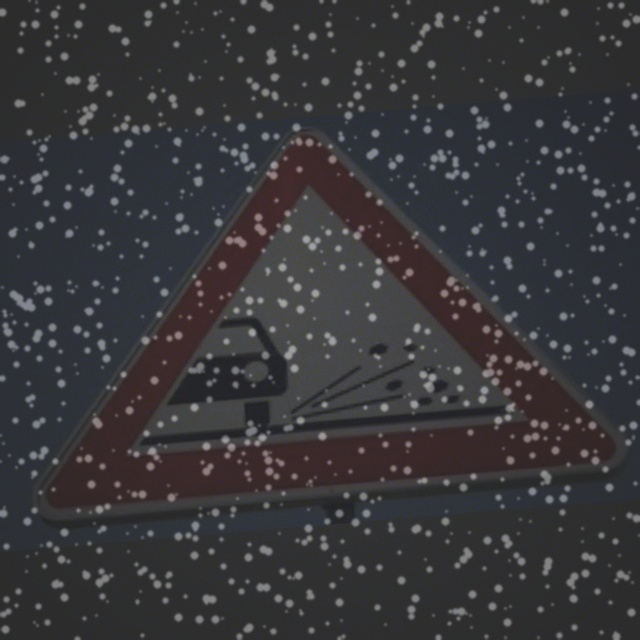Loose_Gravel: (55, 128, 598, 516)
